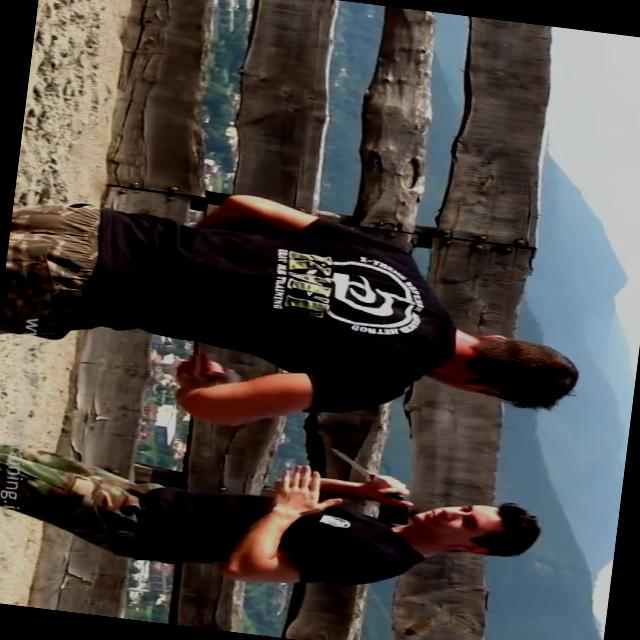knife: (318, 442, 427, 512)
